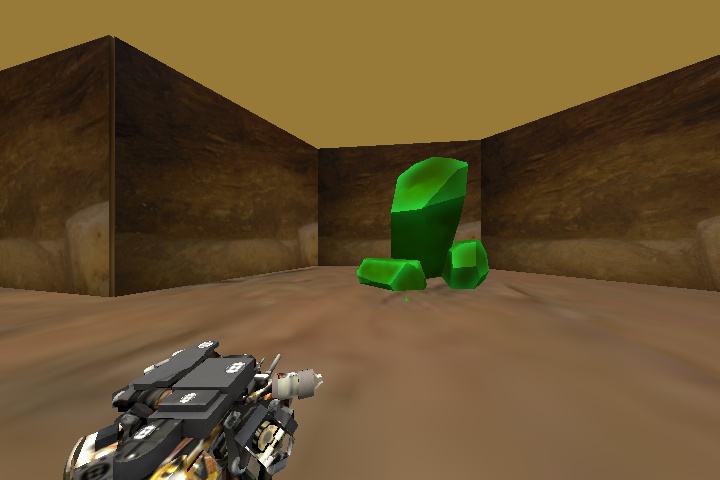gem: (356, 157, 490, 292)
